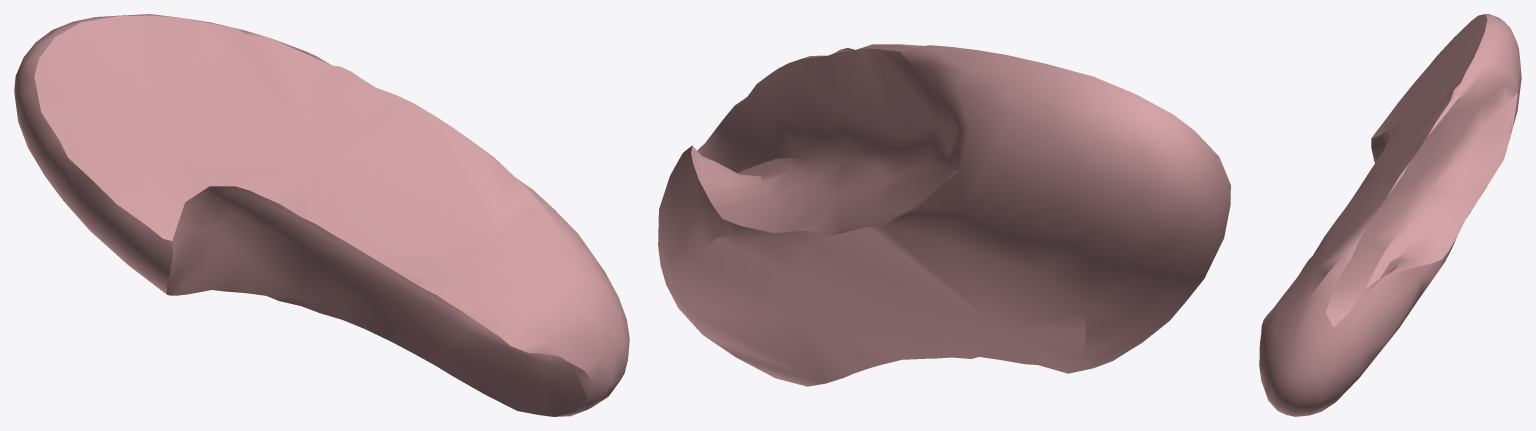
File: fma321315_mm2141.glb
3 renders of one model, left to right at view 1: azimuth 30°, elevation 25°; view 2: azimuth 150°, elevation 25°; view 3: azimuth 270°, elevation 25°, orthographic. The views are drawn at different scales.
Visible parts, largest first — view 1: FMA321315_MM2141; view 2: FMA321315_MM2141; view 3: FMA321315_MM2141.
Boxes of the visible parts, x1=… form: FMA321315_MM2141: x1=14, y1=14, x2=629, y2=416; FMA321315_MM2141: x1=658, y1=44, x2=1230, y2=386; FMA321315_MM2141: x1=1259, y1=14, x2=1521, y2=416.
Bounding box in the file's own units: 0.0206 × 0.0154 × 0.0134.
